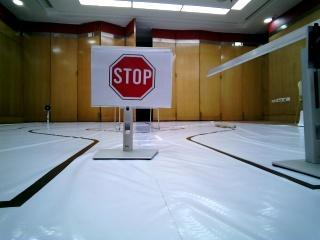stop: (95, 46, 167, 109)
